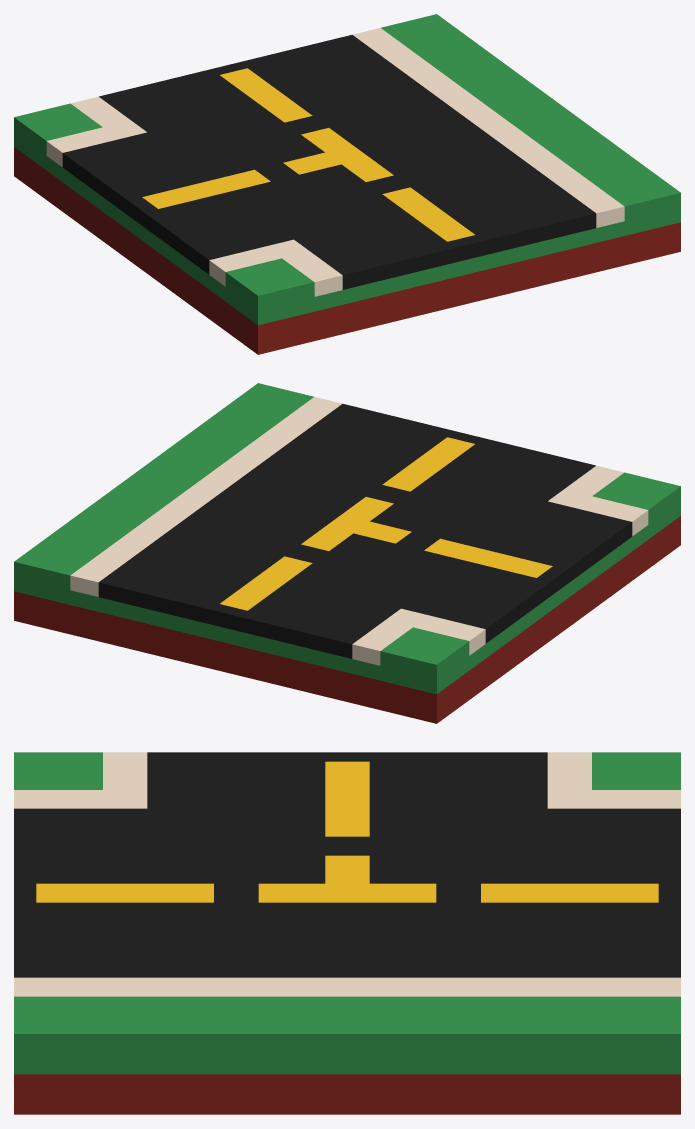
The model's file is 3WayPart3.obj.
3 renders of one model, top to bottom at view 1: azimuth 30°, elevation 25°; view 2: azimuth 150°, elevation 25°; view 3: azimuth 270°, elevation 25°, orthographic. The views are drawn at different scales.
Bounding box in the file's own units: 3 × 0.4 × 3.
1 material, 1 textured.
